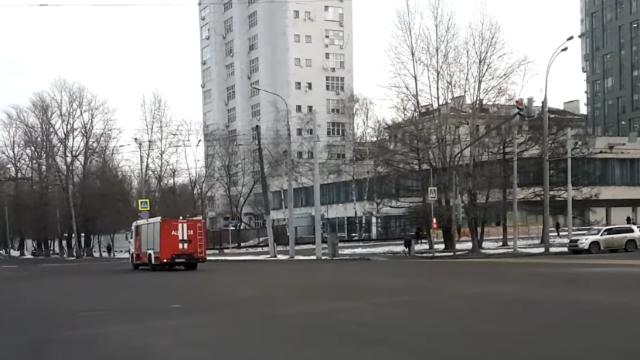fire fighting vehicle: (129, 216, 209, 273)
non emergency car: (569, 223, 640, 257)
